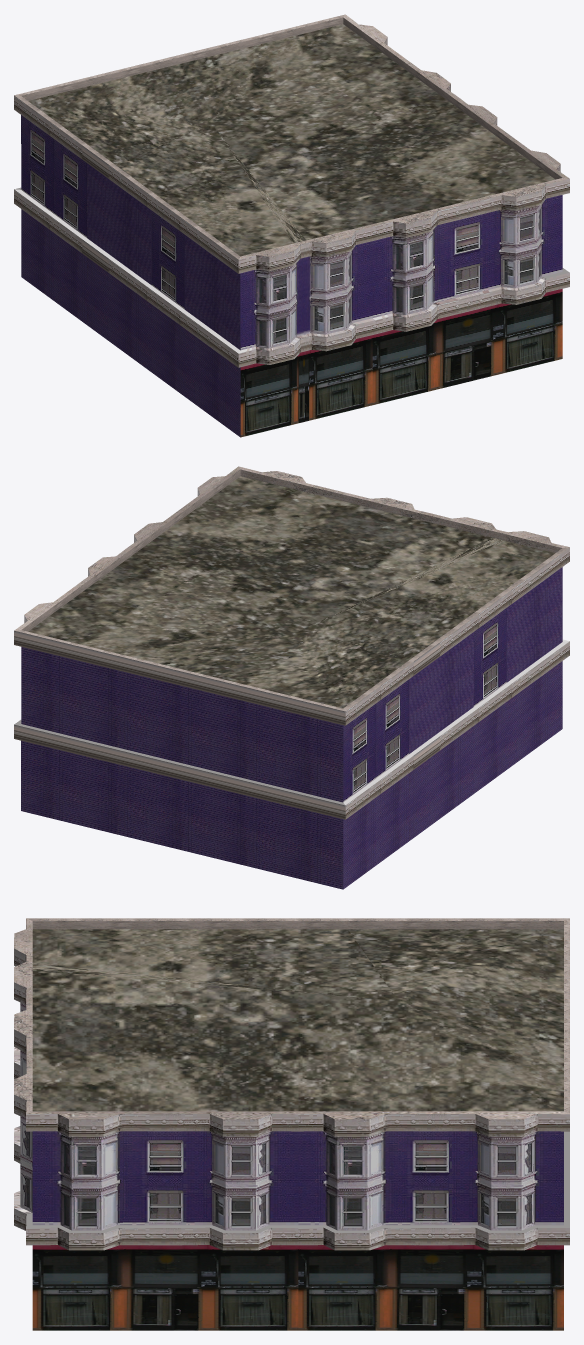
File: mission_08_sfs.obj
3 views of the same model, one above another, from view 1: azimuth 30°, elevation 25°; view 2: azimuth 150°, elevation 25°; view 3: azimuth 270°, elevation 25° (orthographic). The views are drawn at different scales.
Parts seen in each view (by area): view 1: mission_08_SFS; view 2: mission_08_SFS; view 3: mission_08_SFS.
Boxes of the visible parts, x1,y1,x2,y2 form: mission_08_SFS: [14, 14, 569, 437]; mission_08_SFS: [14, 466, 569, 889]; mission_08_SFS: [14, 918, 569, 1330].
Size of the model in its own units: 29.34 by 14.92 by 34.28.
Materials: 6 (6 with a texture image).
